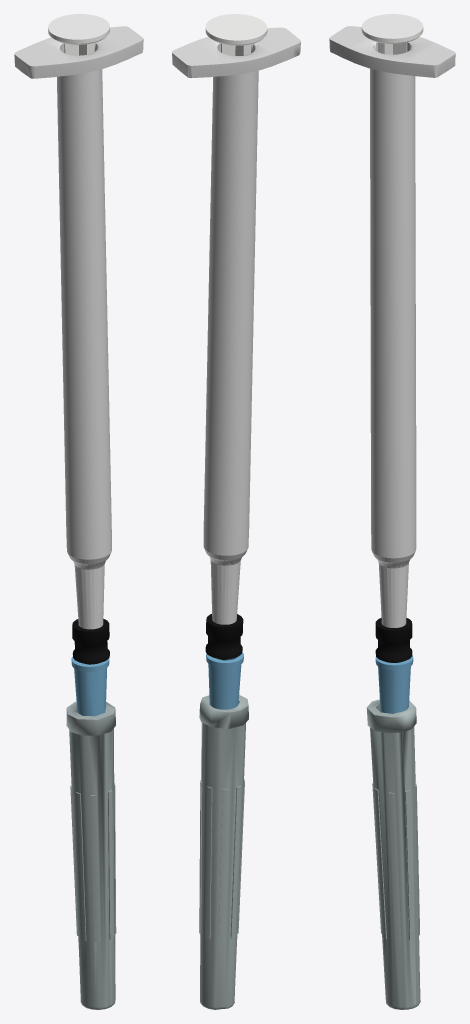
The model's file is syringe.fbx.
The picture shows the model from 3 angles, left to right: view 1: azimuth 30°, elevation 25°; view 2: azimuth 210°, elevation 25°; view 3: azimuth 330°, elevation 25°; orthographic projection.
Parts seen in each view (by area): view 1: syringe_body, syringe_cap, syringe_plunger, Syringe_needle, suction; view 2: syringe_body, syringe_cap, syringe_plunger, Syringe_needle, suction; view 3: syringe_body, syringe_cap, syringe_plunger, Syringe_needle, suction.
Part boxes in pixels (<box>): syringe_body: <box>14,26,143,629</box>; syringe_cap: <box>66,701,116,1009</box>; syringe_plunger: <box>48,14,109,55</box>; Syringe_needle: <box>71,656,109,716</box>; suction: <box>72,618,109,664</box>; syringe_body: <box>172,27,300,624</box>; syringe_cap: <box>199,695,248,1009</box>; syringe_plunger: <box>205,14,267,55</box>; Syringe_needle: <box>206,652,243,709</box>; suction: <box>205,614,243,660</box>; syringe_body: <box>329,26,455,627</box>; syringe_cap: <box>366,699,420,1009</box>; syringe_plunger: <box>361,14,423,54</box>; Syringe_needle: <box>375,655,413,713</box>; suction: <box>375,618,412,662</box>.
Bounding box in the file's own units: 182 × 1503 × 99.19.
